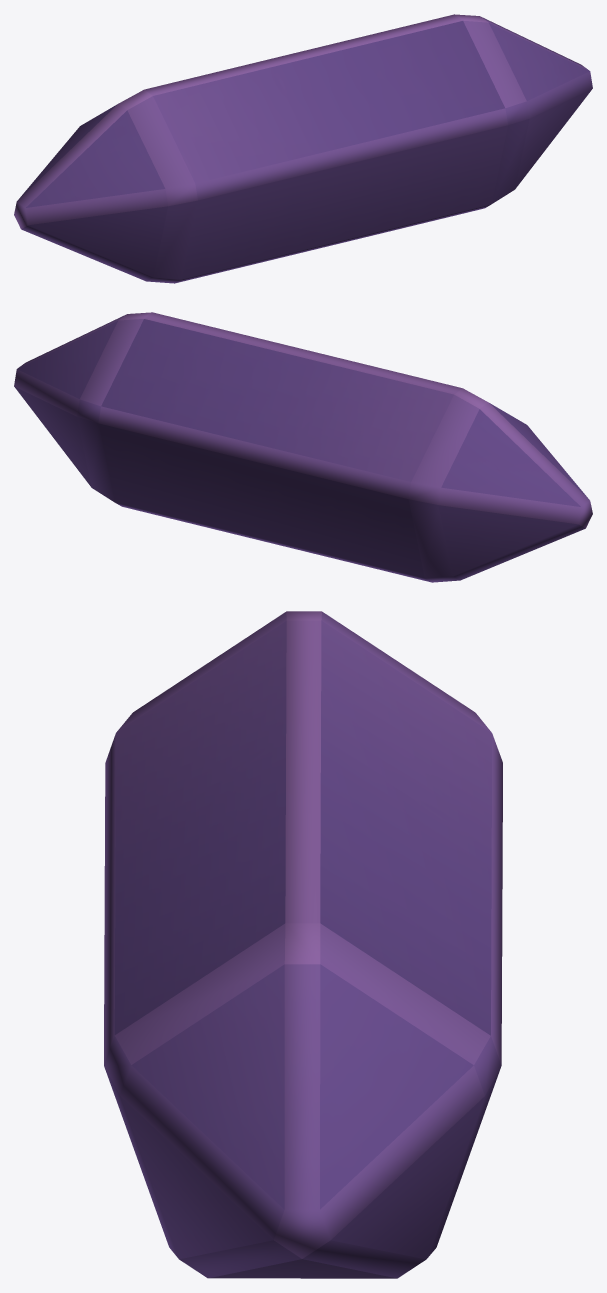
Rendered from christal_amethyst_1.fbx.
3 renders of one model, top to bottom at view 1: azimuth 30°, elevation 25°; view 2: azimuth 150°, elevation 25°; view 3: azimuth 270°, elevation 25°, orthographic. The views are drawn at different scales.
Parts seen in each view (by area): view 1: christal_amethyst_1; view 2: christal_amethyst_1; view 3: christal_amethyst_1.
Part boxes in pixels (bbox=[...]): christal_amethyst_1: bbox=[14, 14, 592, 283]; christal_amethyst_1: bbox=[14, 312, 592, 582]; christal_amethyst_1: bbox=[104, 611, 502, 1278].
Size of the model in its own units: 110 by 31.95 by 33.68.
Materials: 1 (1 with a texture image).
